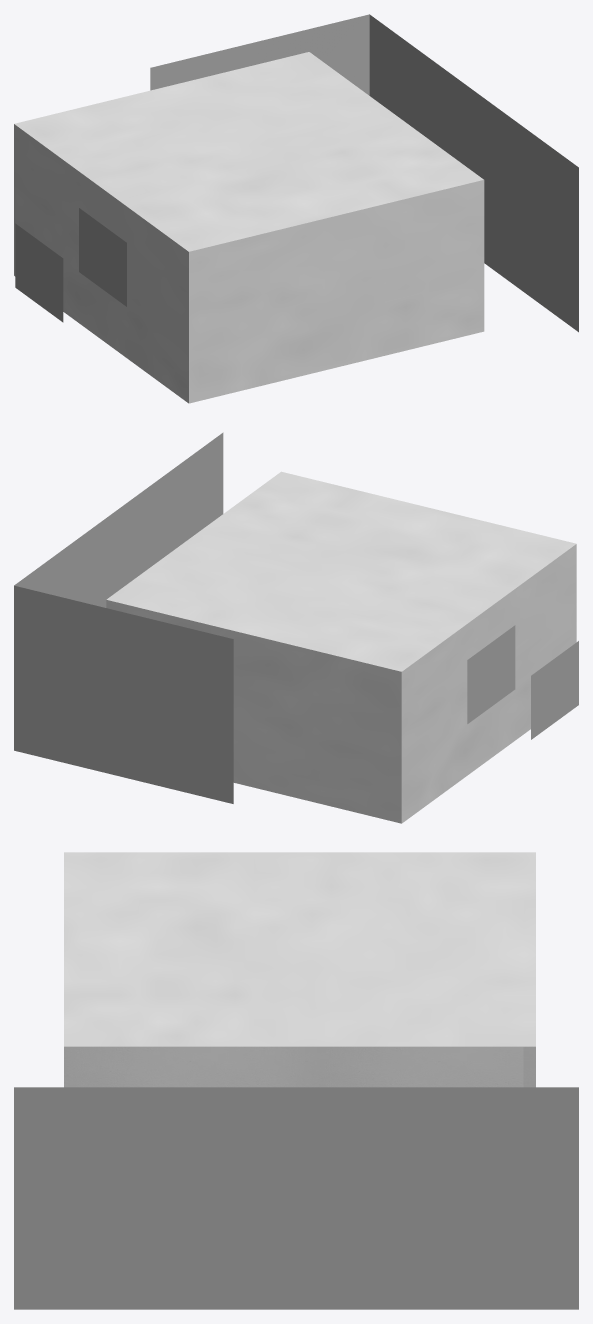
3 views of the same model, one above another, from view 1: azimuth 30°, elevation 25°; view 2: azimuth 150°, elevation 25°; view 3: azimuth 270°, elevation 25° (orthographic). The views are drawn at different scales.
Parts seen in each view (by area): view 1: Paredes, PlanosExterior, PlanoTarde, PlanoDia; view 2: Paredes, PlanosExterior, PlanoDia, PlanoTarde; view 3: PlanosExterior, Paredes, paredfalsa.
Part boxes in pixels (left/top/right/bottom): Paredes: left=14, top=52, right=484, bottom=403; PlanosExterior: left=150, top=14, right=578, bottom=332; PlanoTarde: left=15, top=223, right=63, bottom=322; PlanoDia: left=79, top=208, right=126, bottom=306; Paredes: left=106, top=471, right=576, bottom=823; PlanosExterior: left=14, top=432, right=233, bottom=803; PlanoDia: left=467, top=625, right=515, bottom=723; PlanoTarde: left=531, top=641, right=578, bottom=739; PlanosExterior: left=14, top=1087, right=578, bottom=1309; Paredes: left=64, top=852, right=535, bottom=1085; paredfalsa: left=64, top=1046, right=535, bottom=1087.
Bounding box in the file's own units: 9.13 × 3.3 × 7.6.
15 materials, 8 textured.
